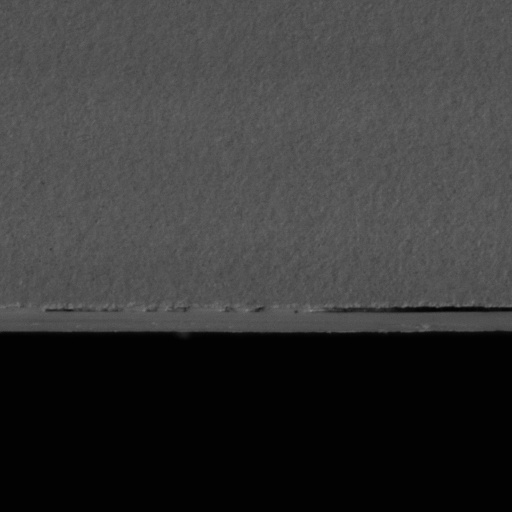jiaofeng: (335, 301, 511, 323), (40, 303, 124, 321)
